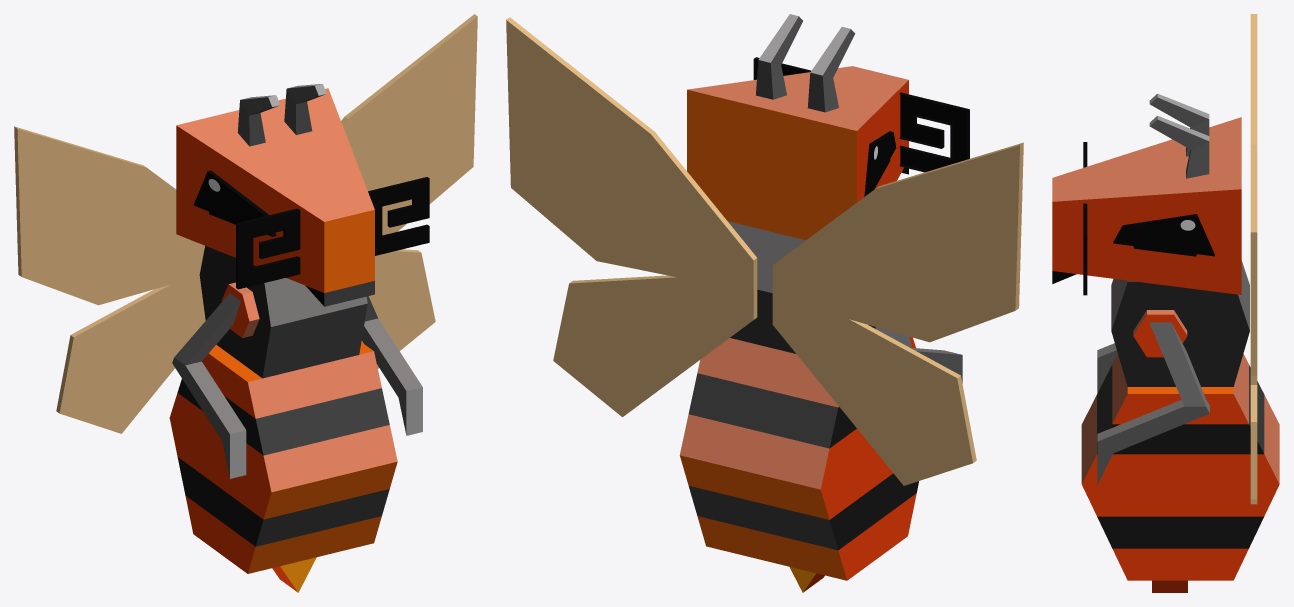
3 renders of one model, left to right at view 1: azimuth 30°, elevation 25°; view 2: azimuth 150°, elevation 25°; view 3: azimuth 270°, elevation 25°, orthographic. The views are drawn at different scales.
Visible parts, largest first — view 1: Ch_208, Ch_208_Wing_R, Ch_208_Head, Ch_208_Wing_L, Ch_208_Chest, Ch_208_Arm_L, Ch_208_Eye_03_L, Ch_208_Eye_03_R, Ch_208_Arm_R, Ch_208_Eye_01; view 2: Ch_208_Wing_L, Ch_208_Wing_R, Ch_208, Ch_208_Head, Ch_208_Eye_03_L, Ch_208_Chest, Ch_208_Eye_01, Ch_208_Arm_L; view 3: Ch_208, Ch_208_Head, Ch_208_Chest, Ch_208_Arm_R, Ch_208_Eye_01, Ch_208_Wing_L, Ch_208_Wing_R, Ch_208_Arm_L, Ch_208_Eye_03_R.
Part boxes in pixels (x1,y1,x2,y2): Ch_208: (169, 342, 397, 592); Ch_208_Wing_R: (14, 126, 205, 433); Ch_208_Head: (176, 84, 374, 306); Ch_208_Wing_L: (341, 14, 477, 368); Ch_208_Chest: (199, 246, 367, 378); Ch_208_Arm_L: (172, 293, 246, 478); Ch_208_Eye_03_L: (236, 208, 300, 289); Ch_208_Eye_03_R: (368, 177, 429, 255); Ch_208_Arm_R: (361, 296, 422, 435); Ch_208_Eye_01: (193, 170, 276, 236); Ch_208_Wing_L: (506, 17, 757, 416); Ch_208_Wing_R: (772, 142, 1023, 485); Ch_208: (679, 337, 918, 592); Ch_208_Head: (687, 14, 908, 239); Ch_208_Eye_03_L: (899, 92, 969, 172); Ch_208_Chest: (728, 221, 875, 353); Ch_208_Eye_01: (864, 131, 896, 196); Ch_208_Arm_L: (875, 327, 962, 383); Ch_208: (1081, 353, 1279, 592); Ch_208_Head: (1052, 93, 1241, 294); Ch_208_Chest: (1111, 261, 1249, 386); Ch_208_Arm_R: (1097, 322, 1209, 484); Ch_208_Eye_01: (1113, 214, 1214, 256); Ch_208_Wing_L: (1250, 232, 1257, 504); Ch_208_Wing_R: (1250, 14, 1257, 232); Ch_208_Arm_L: (1097, 343, 1117, 393); Ch_208_Eye_03_R: (1083, 203, 1087, 295).
Size of the model in its own units: 9.61 by 9.98 by 4.23.
